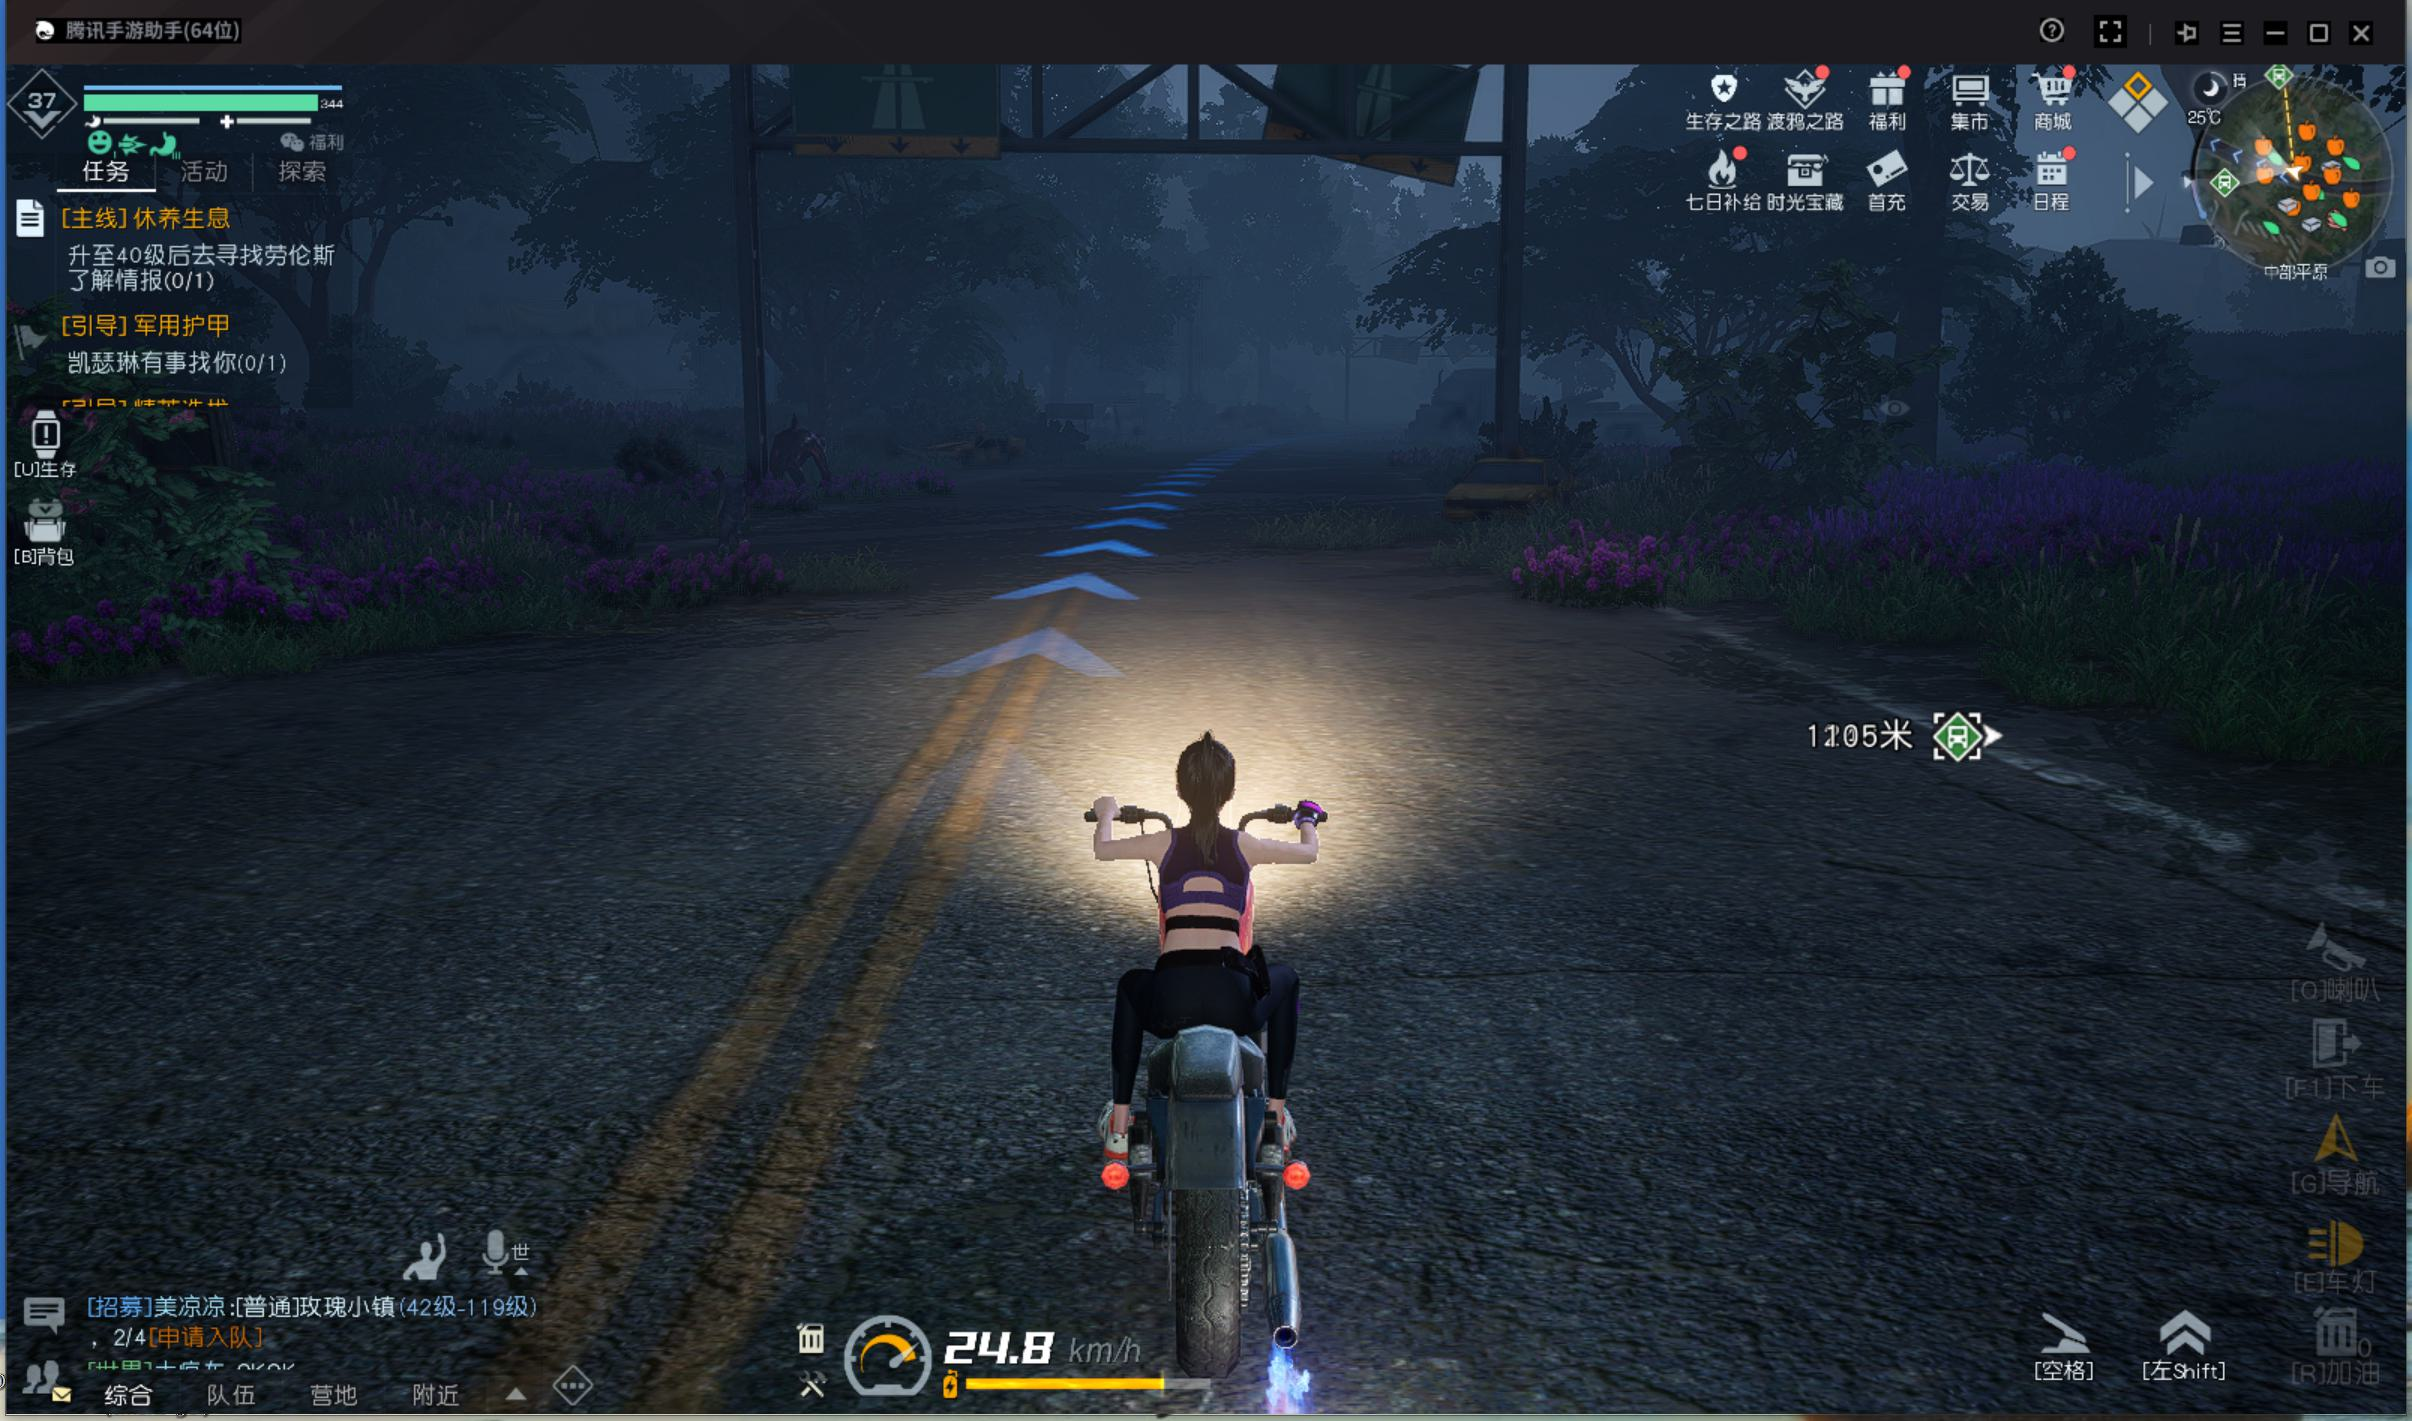tree: (1881, 288, 1940, 491), (296, 284, 357, 433)
